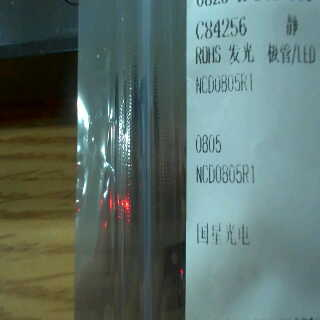LED: (225, 39, 317, 71)
